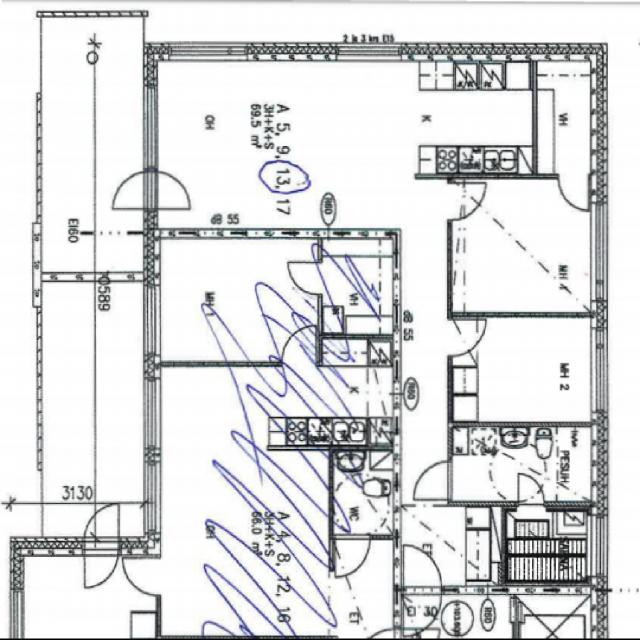door: (403, 587, 441, 637), (403, 546, 441, 596), (109, 172, 157, 210), (144, 172, 191, 210), (413, 462, 452, 500), (448, 319, 487, 357), (448, 183, 487, 220), (558, 175, 589, 212), (518, 476, 544, 507)
